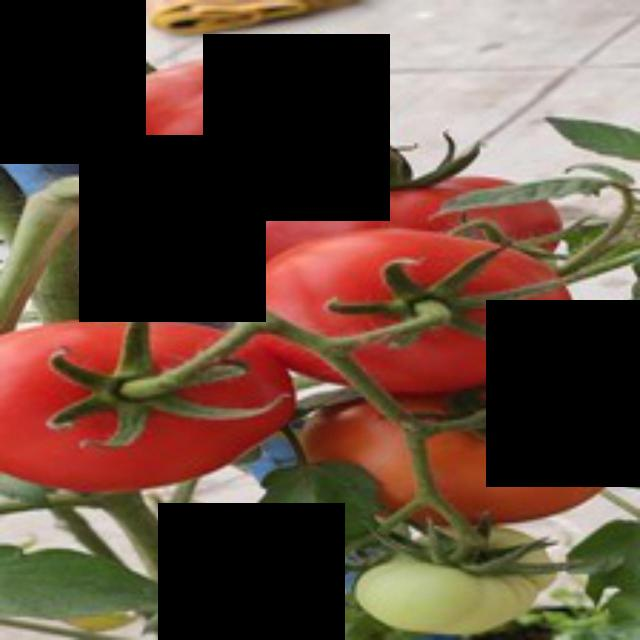tomato: (256, 222, 590, 404), (1, 314, 308, 512)
